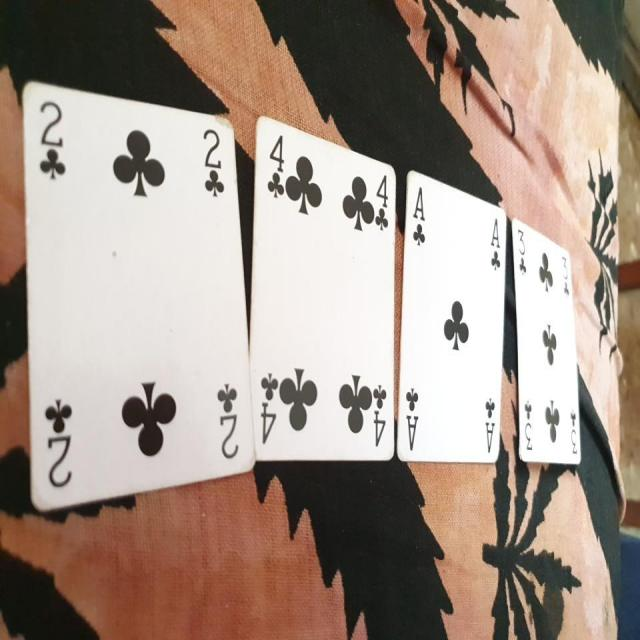2 Trefoils: (22, 80, 255, 512)
3 Trefoils: (510, 218, 582, 466)
4 Trefoils: (249, 113, 396, 466)
A Trefoils: (397, 169, 508, 465)
